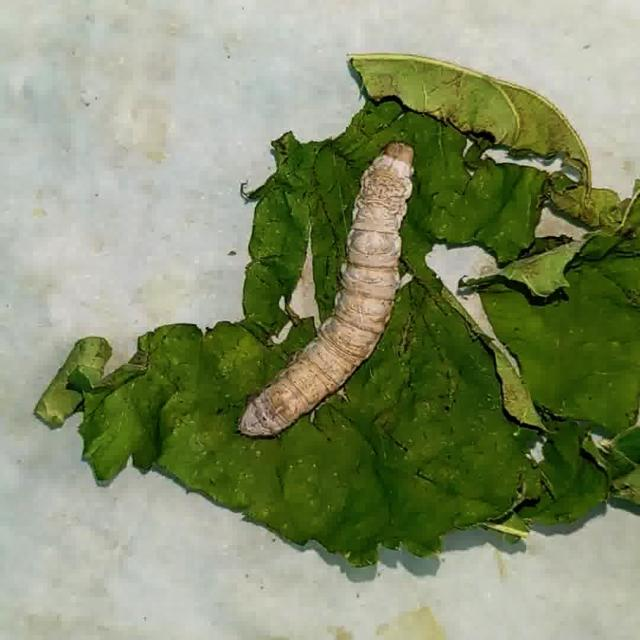Grasserie: (237, 140, 444, 453)
